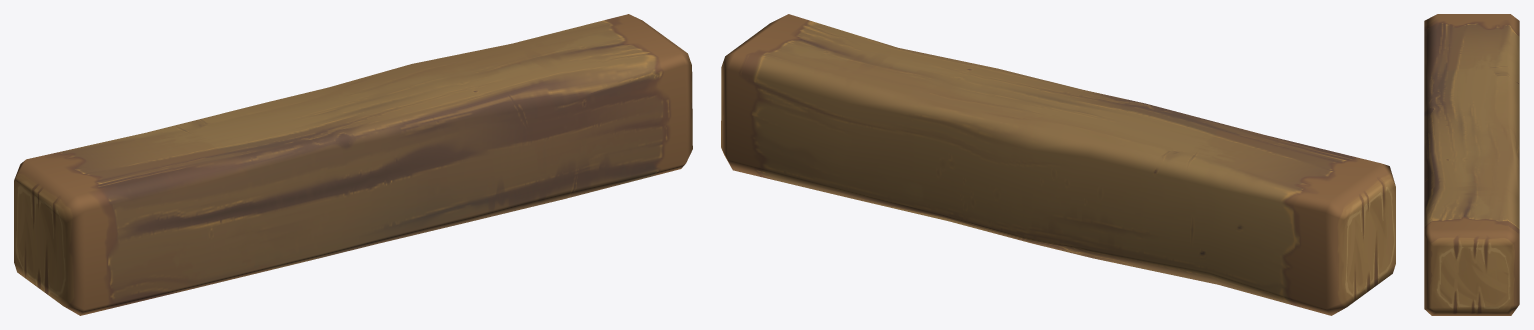
The model's file is SM_MOD_basic_beam_square_town_04.fbx.
3 views of the same model, side by side, from view 1: azimuth 30°, elevation 25°; view 2: azimuth 150°, elevation 25°; view 3: azimuth 270°, elevation 25° (orthographic). The views are drawn at different scales.
Visible parts, largest first — view 1: SM_MOD_basic_beam_square_town_04_LOD0; view 2: SM_MOD_basic_beam_square_town_04_LOD0; view 3: SM_MOD_basic_beam_square_town_04_LOD0.
Part boxes in pixels (x1,y1,x2,y2): SM_MOD_basic_beam_square_town_04_LOD0: (14, 14, 692, 315); SM_MOD_basic_beam_square_town_04_LOD0: (721, 14, 1395, 315); SM_MOD_basic_beam_square_town_04_LOD0: (1424, 14, 1519, 315).
Size of what is drawn, in the model's own units: 200 by 35.8 by 35.8.
